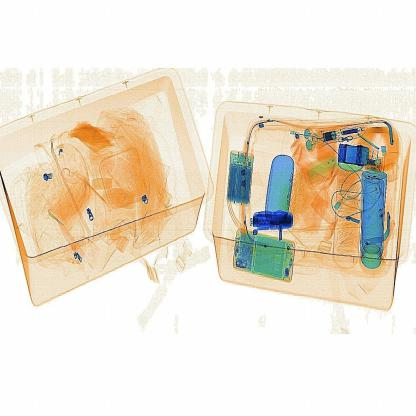scissors: (245, 205, 296, 233)
